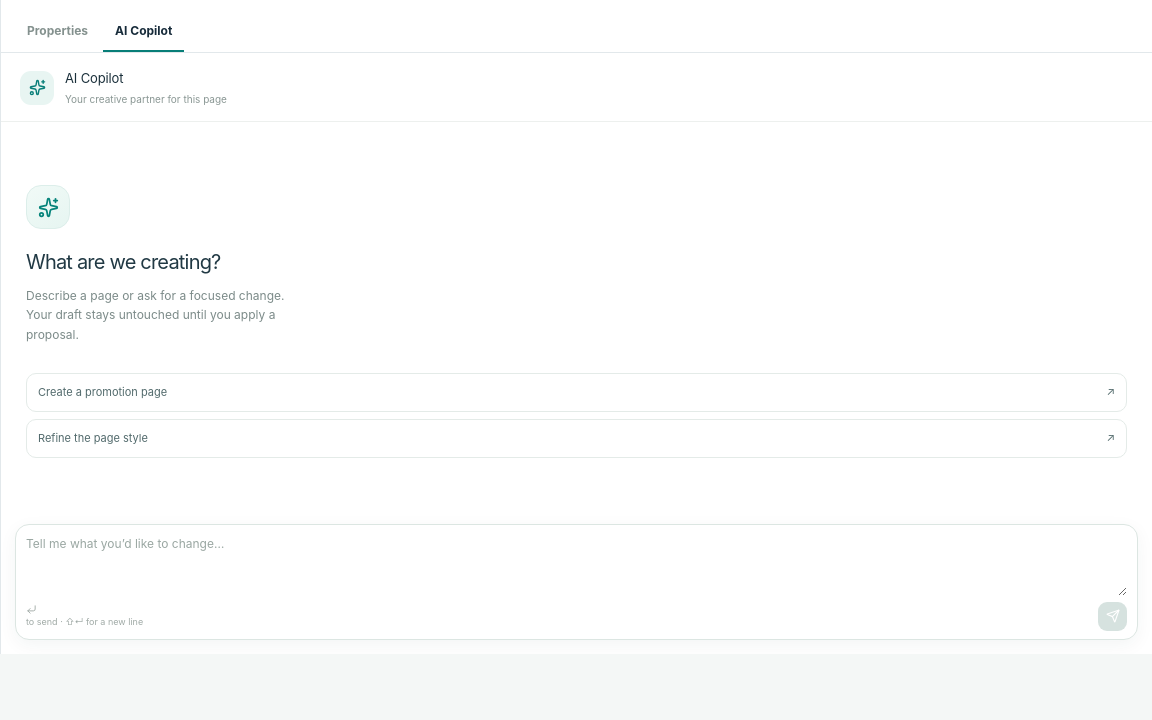
EditorSidebar › defaults to Copilot and keeps Properties available as a workspace mode
The image size is (1152, 720).
Click the tab "Properties". click: click(58, 32)
box: [15, 12, 100, 52]
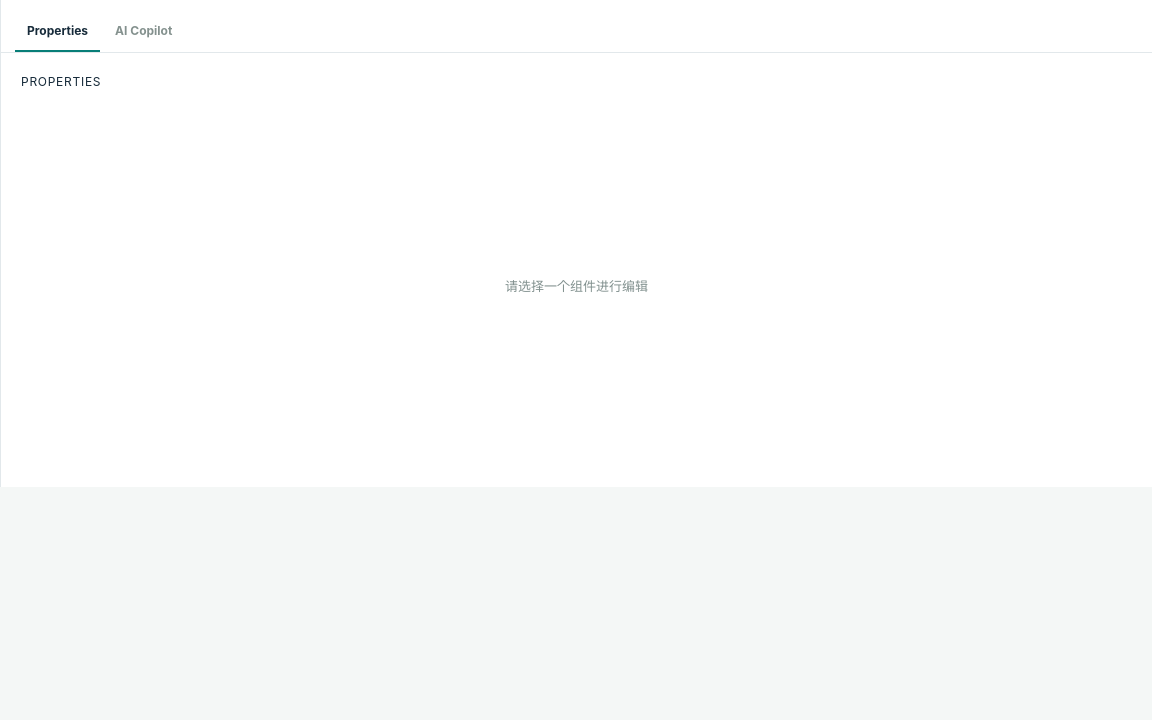
expect the panel "Properties" is shown: met, box [21, 74, 648, 294]
